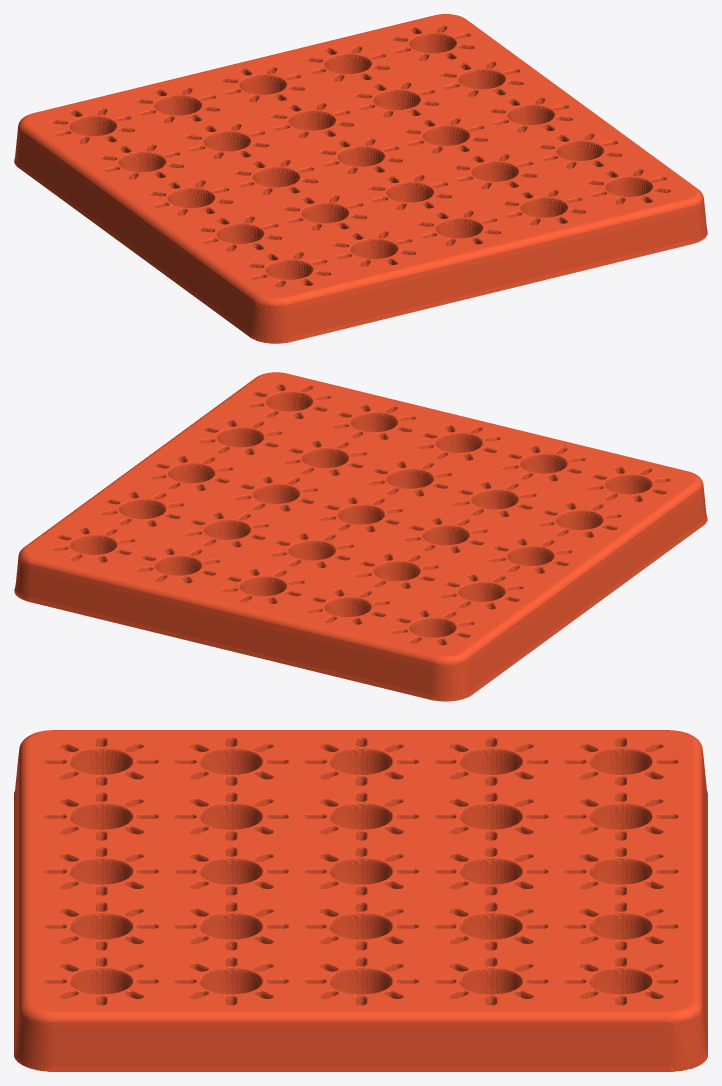
File: mold.glb
3 renders of one model, top to bottom at view 1: azimuth 30°, elevation 25°; view 2: azimuth 150°, elevation 25°; view 3: azimuth 270°, elevation 25°, orthographic. The views are drawn at different scales.
Visible parts, largest first — view 1: geometry_0; view 2: geometry_0; view 3: geometry_0.
Part boxes in pixels (box(x1,y1,x2,y2)): geometry_0: box(14, 14, 707, 343); geometry_0: box(14, 372, 707, 701); geometry_0: box(14, 730, 707, 1071).
Size of the model in its own units: 0.1584 by 0.0136 by 0.1584.
